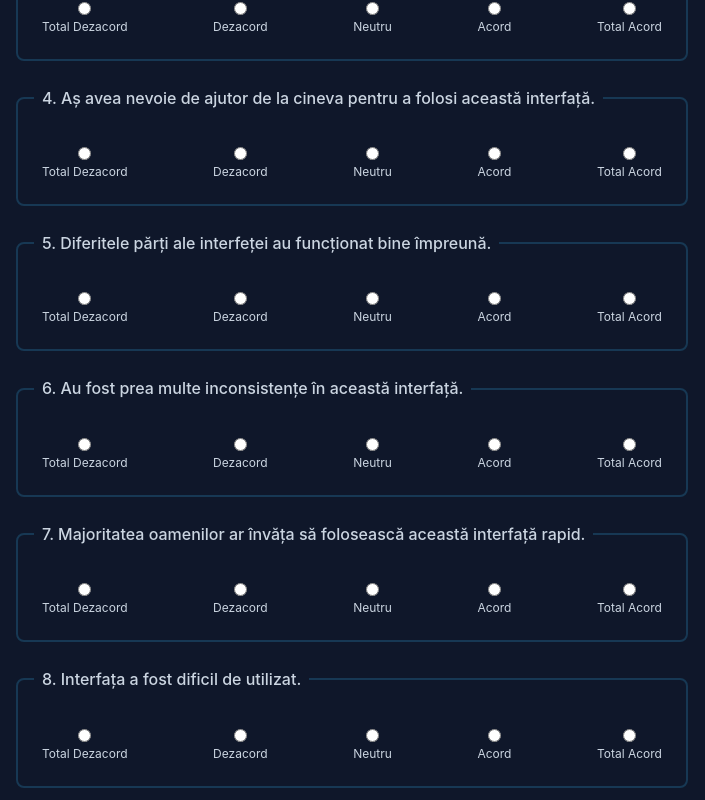
Test case: SUSQuestionnaire › shows error when not all questions answered
(page scrolled)
Step 1. Submit the form
(page scrolled)
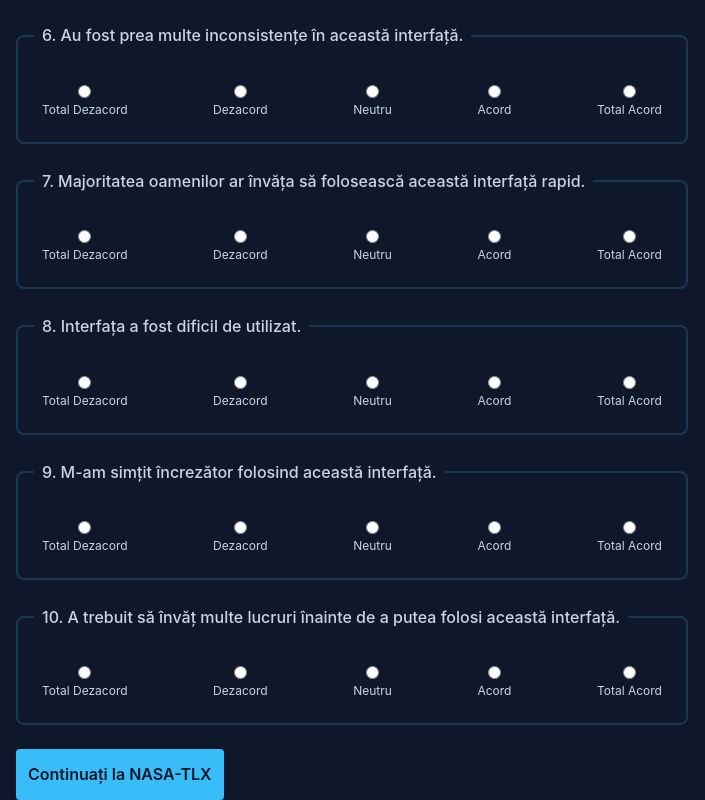
Step 2. Click the button "Continuați la NASA-TLX" → (120, 774), box [16,749,224,799]
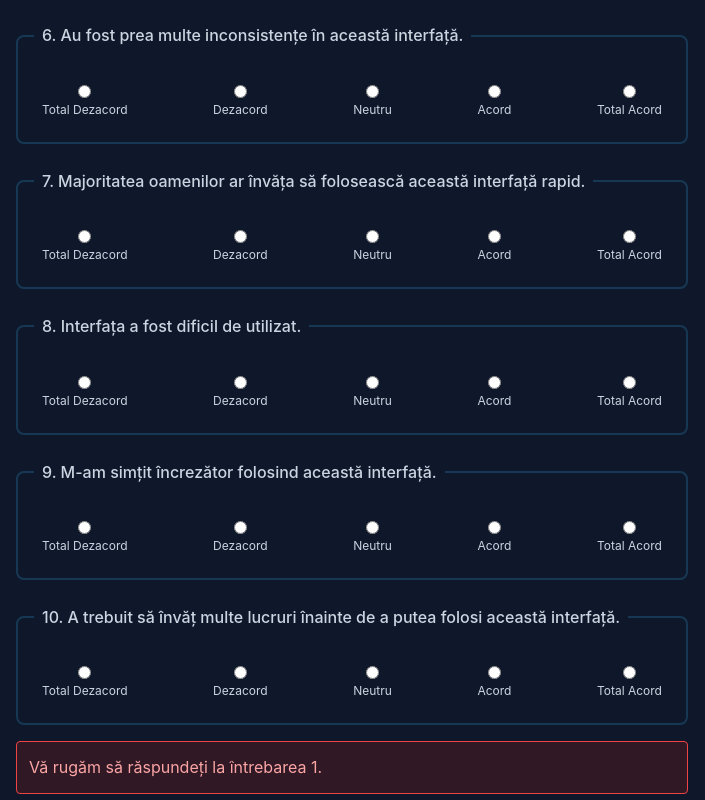
Result: the message "Vă rugăm să răspundeți la întrebarea 1." is shown at [16,741,688,794]
